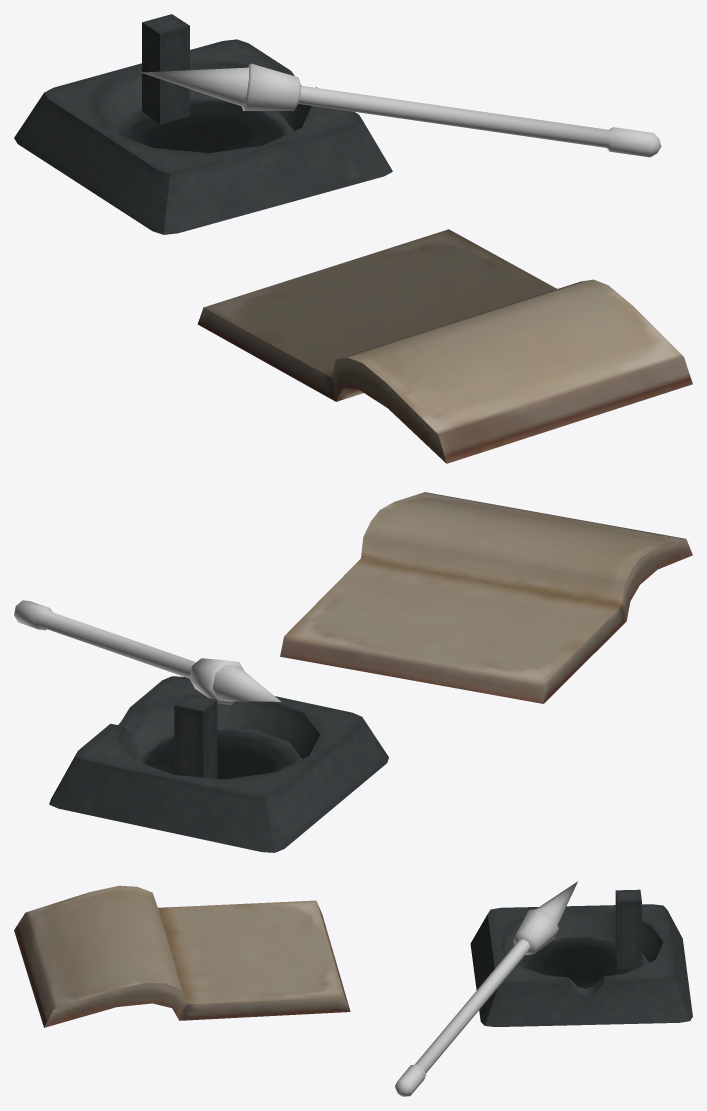
The model's file is Homeworld_Interior_Dq_Thing_Inkstone_01_Vo.fbx.
3 views of the same model, one above another, from view 1: azimuth 30°, elevation 25°; view 2: azimuth 150°, elevation 25°; view 3: azimuth 270°, elevation 25° (orthographic). The views are drawn at different scales.
Visible parts, largest first — view 1: Area_Dq_Prop_MS_Inkstone_01_Vo; view 2: Area_Dq_Prop_MS_Inkstone_01_Vo; view 3: Area_Dq_Prop_MS_Inkstone_01_Vo.
Part boxes in pixels (left/top/right/bottom): Area_Dq_Prop_MS_Inkstone_01_Vo: left=14, top=14, right=692, bottom=463; Area_Dq_Prop_MS_Inkstone_01_Vo: left=14, top=492, right=692, bottom=852; Area_Dq_Prop_MS_Inkstone_01_Vo: left=14, top=881, right=692, bottom=1096.
Size of the model in its own units: 0.665 by 0.1347 by 1.01.
